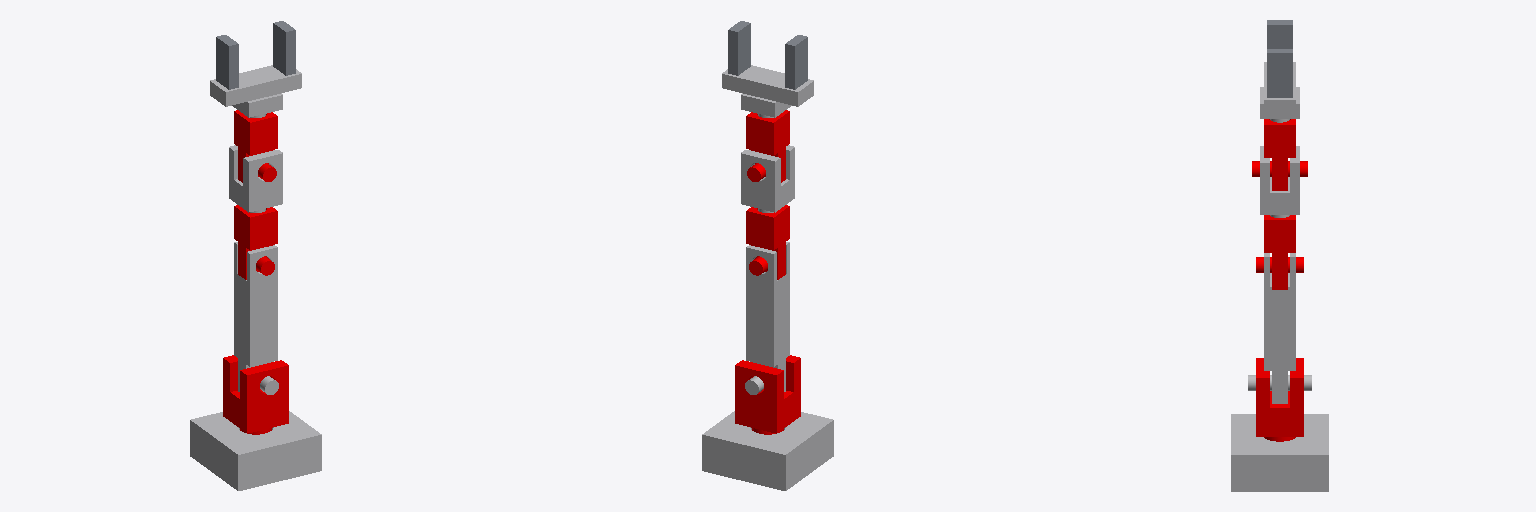
robot.urdf — arm_6dof:
<robot name="arm_6dof">
  <link name="base">
    <visual>
      <origin xyz="-0 -0 -0" rpy="0 0 0" />
      <geometry>
        <mesh filename="meshes/base.stl" />
      </geometry>
      <material name="base_material">
        <color rgba="0.77 0.77 0.78 1" />
      </material>
    </visual>
    <collision>
      <origin xyz="-0 -0 -0" rpy="0 0 0" />
      <geometry>
        <mesh filename="meshes/base.stl" />
      </geometry>
    </collision>
    <inertial>
      <origin xyz="0 0 0.025" rpy="0 0 0" />
      <mass value="1.86189133" />
      <inertia ixx="0.00262216363" iyy="0.00262216363" izz="0.0044685392" ixy="0" ixz="0" iyz="0" />
    </inertial>
  </link>
  <link name="link1">
    <visual>
      <origin xyz="-0 -0 -0.05" rpy="0 0 0" />
      <geometry>
        <mesh filename="meshes/link1.stl" />
      </geometry>
      <material name="link1_material">
        <color rgba="1 0 0 1" />
      </material>
    </visual>
    <collision>
      <origin xyz="-0 -0 -0.05" rpy="0 0 0" />
      <geometry>
        <mesh filename="meshes/link1.stl" />
      </geometry>
    </collision>
    <inertial>
      <origin xyz="3.46944695e-18 0 0.036" rpy="0 0 0" />
      <mass value="0.249299821" />
      <inertia ixx="0.000317109373" iyy="0.000317109373" izz="0.000149579893" ixy="0" ixz="0" iyz="0" />
    </inertial>
  </link>
  <link name="link2">
    <visual>
      <origin xyz="-0 -0 -0.12" rpy="0 0 0" />
      <geometry>
        <mesh filename="meshes/link2.stl" />
      </geometry>
      <material name="link2_material">
        <color rgba="0.77 0.77 0.78 1" />
      </material>
    </visual>
    <collision>
      <origin xyz="-0 -0 -0.12" rpy="0 0 0" />
      <geometry>
        <mesh filename="meshes/link2.stl" />
      </geometry>
    </collision>
    <inertial>
      <origin xyz="0 0 0.0775" rpy="0 0 0" />
      <mass value="0.705270581" />
      <inertia ixx="0.00284606066" iyy="0.00256395243" izz="0.000470180388" ixy="0" ixz="0" iyz="0" />
    </inertial>
  </link>
  <link name="link3">
    <visual>
      <origin xyz="-0 -0 -0.28" rpy="0 0 0" />
      <geometry>
        <mesh filename="meshes/link3.stl" />
      </geometry>
      <material name="link3_material">
        <color rgba="1 0 0 1" />
      </material>
    </visual>
    <collision>
      <origin xyz="-0 -0 -0.28" rpy="0 0 0" />
      <geometry>
        <mesh filename="meshes/link3.stl" />
      </geometry>
    </collision>
    <inertial>
      <origin xyz="0 0 0.0225" rpy="0 0 0" />
      <mass value="0.112251327" />
      <inertia ixx="0.000118097751" iyy="9.93891961e-05" izz="4.86422419e-05" ixy="0" ixz="0" iyz="0" />
    </inertial>
  </link>
  <link name="link4">
    <visual>
      <origin xyz="-0 -0 -0.35" rpy="0 0 0" />
      <geometry>
        <mesh filename="meshes/link4.stl" />
      </geometry>
      <material name="link4_material">
        <color rgba="0.77 0.77 0.78 1" />
      </material>
    </visual>
    <collision>
      <origin xyz="-0 -0 -0.35" rpy="0 0 0" />
      <geometry>
        <mesh filename="meshes/link4.stl" />
      </geometry>
    </collision>
    <inertial>
      <origin xyz="1.73472348e-18 3.46944695e-18 0.031" rpy="0 0 0" />
      <mass value="0.345342902" />
      <inertia ixx="0.000348335874" iyy="0.000348335874" izz="0.000143892876" ixy="0" ixz="0" iyz="0" />
    </inertial>
  </link>
  <link name="link5">
    <visual>
      <origin xyz="-0 -0 -0.41" rpy="0 0 0" />
      <geometry>
        <mesh filename="meshes/link5.stl" />
      </geometry>
      <material name="link5_material">
        <color rgba="1 0 0 1" />
      </material>
    </visual>
    <collision>
      <origin xyz="-0 -0 -0.41" rpy="0 0 0" />
      <geometry>
        <mesh filename="meshes/link5.stl" />
      </geometry>
    </collision>
    <inertial>
      <origin xyz="0 0 0.0225" rpy="0 0 0" />
      <mass value="0.11539292" />
      <inertia ixx="0.000133903868" iyy="0.000102170815" izz="6.25044984e-05" ixy="0" ixz="0" iyz="0" />
    </inertial>
  </link>
  <link name="link6">
    <visual>
      <origin xyz="-0 -0 -0.48" rpy="0 0 0" />
      <geometry>
        <mesh filename="meshes/link6.stl" />
      </geometry>
      <material name="link6_material">
        <color rgba="0.77 0.77 0.78 1" />
      </material>
    </visual>
    <collision>
      <origin xyz="-0 -0 -0.48" rpy="0 0 0" />
      <geometry>
        <mesh filename="meshes/link6.stl" />
      </geometry>
    </collision>
    <inertial>
      <origin xyz="0 0 0.016" rpy="0 0 0" />
      <mass value="0.406800634" />
      <inertia ixx="0.000241503977" iyy="0.000566944484" izz="0.000494940772" ixy="0" ixz="0" iyz="0" />
    </inertial>
  </link>
  <link name="left_finger">
    <visual>
      <origin xyz="0.041 -0 -0.53" rpy="0 0 0" />
      <geometry>
        <mesh filename="meshes/left_finger.stl" />
      </geometry>
      <material name="left_finger_material">
        <color rgba="0.55 0.57 0.6 1" />
      </material>
    </visual>
    <collision>
      <origin xyz="0.041 -0 -0.53" rpy="0 0 0" />
      <geometry>
        <mesh filename="meshes/left_finger.stl" />
      </geometry>
    </collision>
    <inertial>
      <origin xyz="0 0 0.03" rpy="0 0 0" />
      <mass value="0.211008" />
      <inertia ixx="8.1308416e-05" iyy="6.6748864e-05" izz="2.145248e-05" ixy="0" ixz="0" iyz="0" />
    </inertial>
  </link>
  <link name="right_finger">
    <visual>
      <origin xyz="-0.041 -0 -0.53" rpy="0 0 0" />
      <geometry>
        <mesh filename="meshes/right_finger.stl" />
      </geometry>
      <material name="right_finger_material">
        <color rgba="0.55 0.57 0.6 1" />
      </material>
    </visual>
    <collision>
      <origin xyz="-0.041 -0 -0.53" rpy="0 0 0" />
      <geometry>
        <mesh filename="meshes/right_finger.stl" />
      </geometry>
    </collision>
    <inertial>
      <origin xyz="0 0 0.03" rpy="0 0 0" />
      <mass value="0.211008" />
      <inertia ixx="8.1308416e-05" iyy="6.6748864e-05" izz="2.145248e-05" ixy="0" ixz="0" iyz="0" />
    </inertial>
  </link>
  <joint name="joint1" type="revolute">
    <parent link="base" />
    <child link="link1" />
    <origin xyz="0 0 0.05" rpy="0 0 0" />
    <axis xyz="0 0 1" />
    <limit effort="100" velocity="10" lower="-3.14159265" upper="3.14159265" />
  </joint>
  <joint name="joint2" type="revolute">
    <parent link="link1" />
    <child link="link2" />
    <origin xyz="0 0 0.07" rpy="0 0 0" />
    <axis xyz="0 1 0" />
    <limit effort="100" velocity="10" lower="-2.1" upper="2.1" />
  </joint>
  <joint name="joint3" type="revolute">
    <parent link="link2" />
    <child link="link3" />
    <origin xyz="0 0 0.16" rpy="0 0 0" />
    <axis xyz="0 1 0" />
    <limit effort="100" velocity="10" lower="-2.4" upper="2.4" />
  </joint>
  <joint name="joint4" type="revolute">
    <parent link="link3" />
    <child link="link4" />
    <origin xyz="0 0 0.07" rpy="0 0 0" />
    <axis xyz="0 0 1" />
    <limit effort="100" velocity="10" lower="-3.14159265" upper="3.14159265" />
  </joint>
  <joint name="joint5" type="revolute">
    <parent link="link4" />
    <child link="link5" />
    <origin xyz="0 0 0.06" rpy="0 0 0" />
    <axis xyz="0 1 0" />
    <limit effort="100" velocity="10" lower="-2.2" upper="2.2" />
  </joint>
  <joint name="joint6" type="revolute">
    <parent link="link5" />
    <child link="link6" />
    <origin xyz="0 0 0.07" rpy="0 0 0" />
    <axis xyz="0 0 1" />
    <limit effort="100" velocity="10" lower="-3.14159265" upper="3.14159265" />
  </joint>
  <joint name="left_finger" type="prismatic">
    <parent link="link6" />
    <child link="left_finger" />
    <origin xyz="-0.041 0 0.05" rpy="0 0 0" />
    <axis xyz="1 0 0" />
    <limit effort="100" velocity="10" lower="0" upper="0.026" />
  </joint>
  <joint name="right_finger" type="prismatic">
    <parent link="link6" />
    <child link="right_finger" />
    <origin xyz="0.041 0 0.05" rpy="0 0 0" />
    <axis xyz="1 0 0" />
    <limit effort="100" velocity="10" lower="-0.026" upper="0" />
  </joint>
</robot>

--- Render facts (derived) ---
Views: 3 orthographic renders of the robot side by side, from view 1: azimuth 30°, elevation 25°; view 2: azimuth 150°, elevation 25°; view 3: azimuth 270°, elevation 25°.
Model arm_6dof with 9 links and 8 joints (6 revolute, 2 prismatic), rooted at base, posed all joints at 0.
Links seen in each view (by area): view 1: base, link2, link1, link6, link4, link3, link5, left_finger, right_finger; view 2: base, link2, link1, link6, link4, link3, link5, left_finger, right_finger; view 3: base, link2, link1, link3, link5, link4, right_finger, link6, left_finger.
Boxes of the visible links, x1,y1,x2,y2 form: base: (190, 411, 321, 490); link2: (234, 242, 278, 394); link1: (223, 355, 288, 434); link6: (210, 65, 301, 117); link4: (229, 145, 282, 212); link3: (234, 205, 277, 279); link5: (234, 110, 277, 182); left_finger: (216, 35, 238, 89); right_finger: (273, 21, 295, 75); base: (702, 411, 833, 490); link2: (745, 242, 789, 394); link1: (735, 355, 800, 434); link6: (722, 65, 813, 117); link4: (741, 145, 794, 212); link3: (746, 205, 789, 279); link5: (746, 110, 789, 182); left_finger: (785, 35, 807, 89); right_finger: (728, 21, 750, 75); base: (1231, 414, 1328, 491); link2: (1248, 253, 1311, 403); link1: (1256, 358, 1303, 441); link3: (1256, 215, 1303, 289); link5: (1252, 119, 1307, 190); link4: (1260, 146, 1299, 217); right_finger: (1267, 49, 1292, 97); link6: (1260, 62, 1299, 122); left_finger: (1267, 20, 1292, 48).
Size in the robot's own frame: 0.12 by 0.12 by 0.59 metres.
9 mesh visuals loaded from 9 distinct referenced files (9 binary STL).
